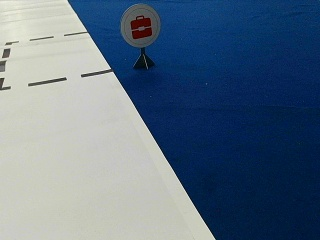company: (120, 4, 162, 46)
